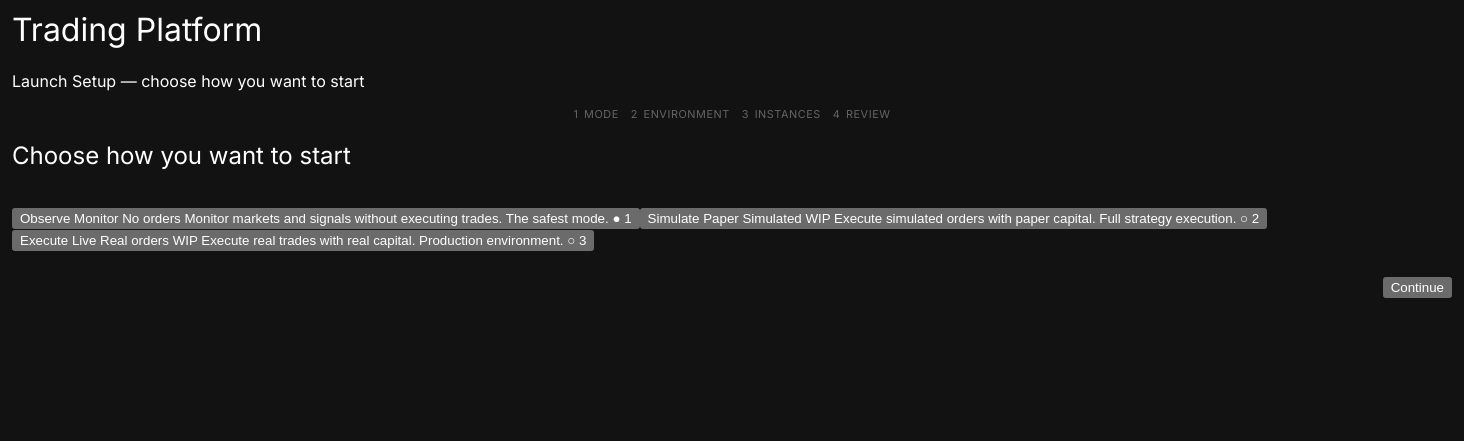
Scenario: Launch Setup — mode selection › execute mode on Bitget shows API key credentials
Step 1. Click the text "Execute" → (44, 241), box [20,233,68,248]
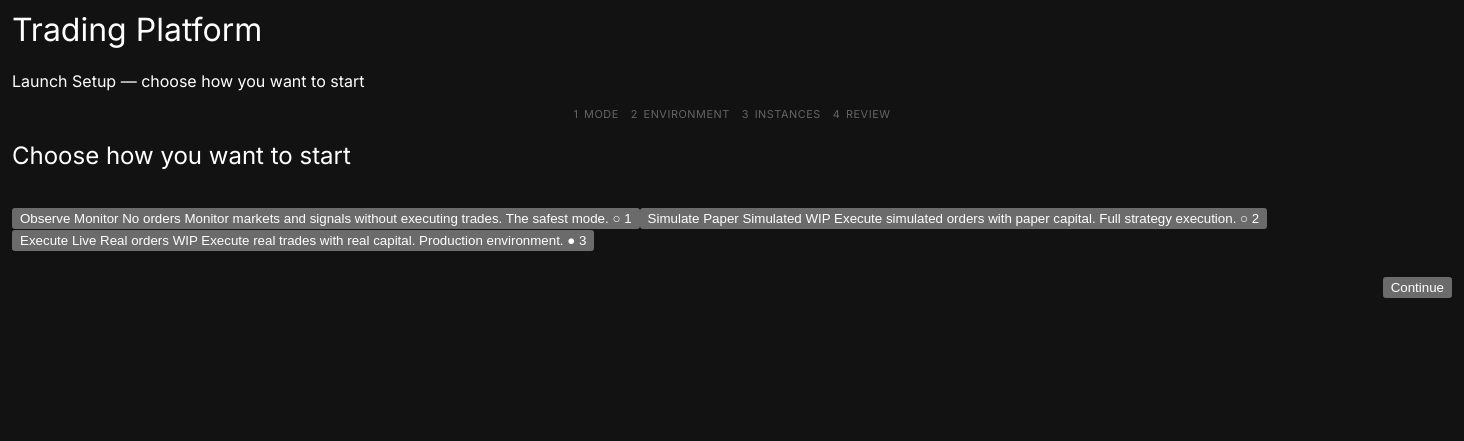
Step 2. Click the button "Continue" → (1417, 287), box [1383,277,1452,298]
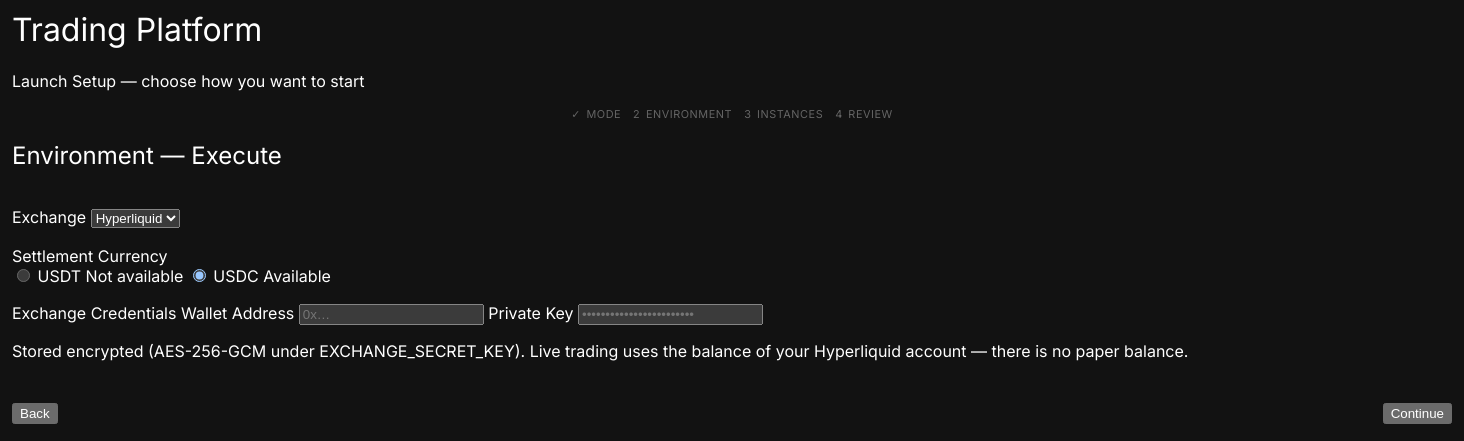
Step 3. Select "Bitget" in the dropdown with id "launch-exchange" → (135, 219), box [91,209,180,228]
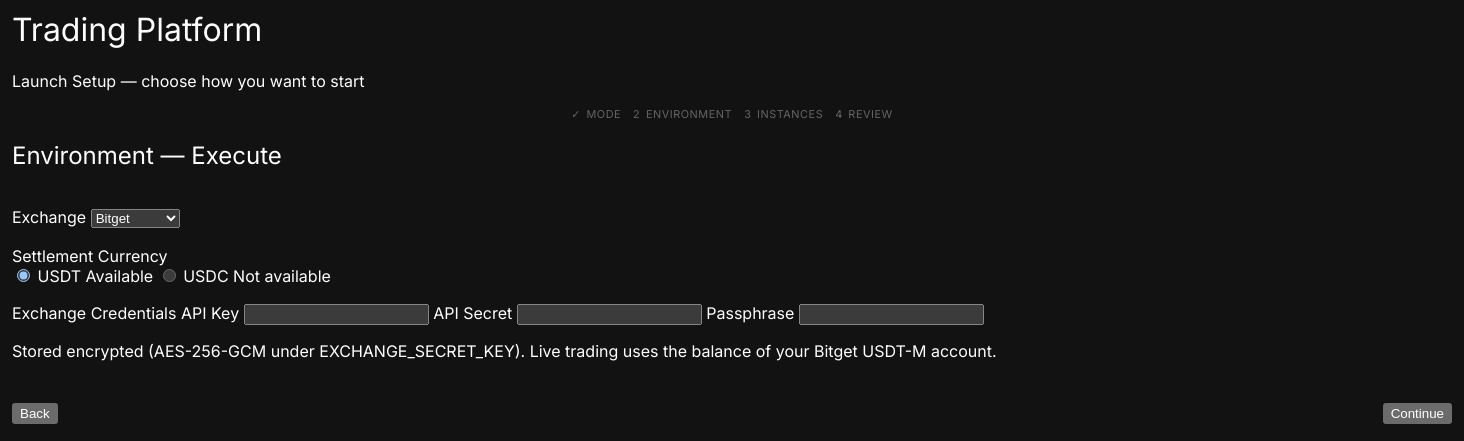
Expected: the field with id "launch-api-key" is shown, [244,304,429,326]
Expected: the password field with id "launch-api-secret" is shown, [517,304,702,326]
Expected: the password field with id "launch-passphrase" is shown, [799,304,984,326]
